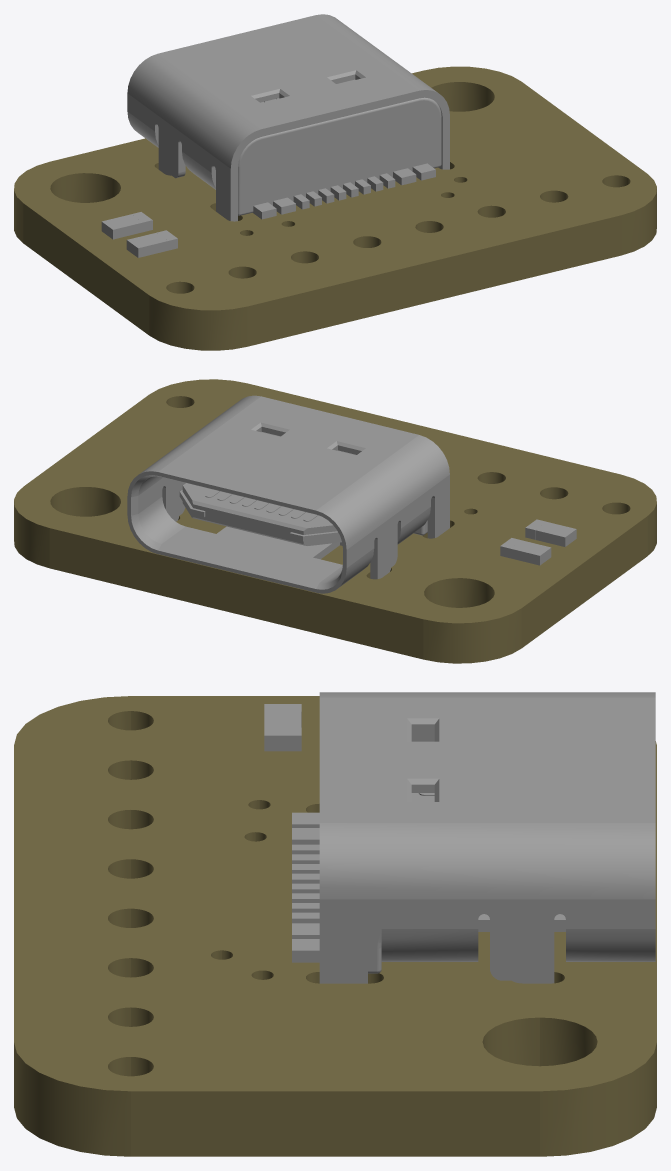
The model's file is ada-4090.glb.
The picture shows the model from 3 angles, top to bottom: view 1: azimuth 30°, elevation 25°; view 2: azimuth 150°, elevation 25°; view 3: azimuth 270°, elevation 25°; orthographic projection. The views are drawn at different scales.
Visible parts, largest first — view 1: 0.16666666666666666_0.16666666666666666_0.08333333333333333_, 0.3333333333333333_0.3333333333333333_0.3333333333333333_0; view 2: 0.16666666666666666_0.16666666666666666_0.08333333333333333_, 0.3333333333333333_0.3333333333333333_0.3333333333333333_0; view 3: 0.16666666666666666_0.16666666666666666_0.08333333333333333_, 0.3333333333333333_0.3333333333333333_0.3333333333333333_0.
Part boxes in pixels (x1,y1,x2,y2): 0.16666666666666666_0.16666666666666666_0.08333333333333333_: (14,66,656,350); 0.3333333333333333_0.3333333333333333_0.3333333333333333_0: (101,14,449,257); 0.16666666666666666_0.16666666666666666_0.08333333333333333_: (14,379,656,663); 0.3333333333333333_0.3333333333333333_0.3333333333333333_0: (127,395,576,593); 0.16666666666666666_0.16666666666666666_0.08333333333333333_: (14,696,656,1156); 0.3333333333333333_0.3333333333333333_0.3333333333333333_0: (264,692,655,983).
Size of the model in its own units: 2.03 by 0.477 by 1.4.
